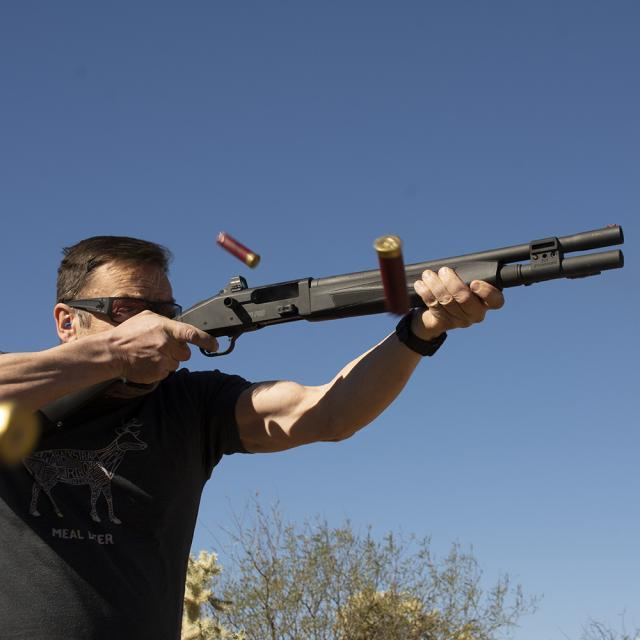shotgun: (138, 205, 622, 398)
